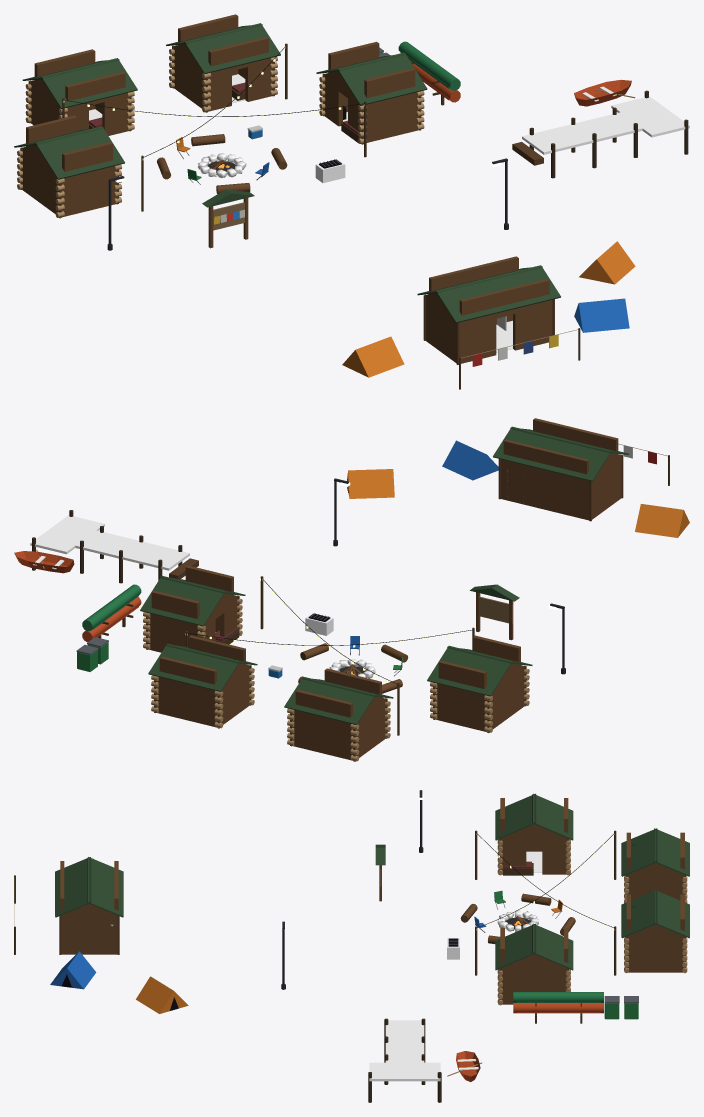
File: tf-lodge-p5.glb
3 renders of one model, top to bottom at view 1: azimuth 30°, elevation 25°; view 2: azimuth 150°, elevation 25°; view 3: azimuth 270°, elevation 25°, orthographic. The views are drawn at different scales.
Visible parts, largest first — view 1: tf-lodge-p5; view 2: tf-lodge-p5; view 3: tf-lodge-p5.
Boxes of the visible parts, x1,y1,x2,y2 form: tf-lodge-p5: (14,14,689,389); tf-lodge-p5: (14,418,689,761); tf-lodge-p5: (14,790,689,1102).
Bounding box in the file's own units: 35.2 × 5.2 × 41.78.
